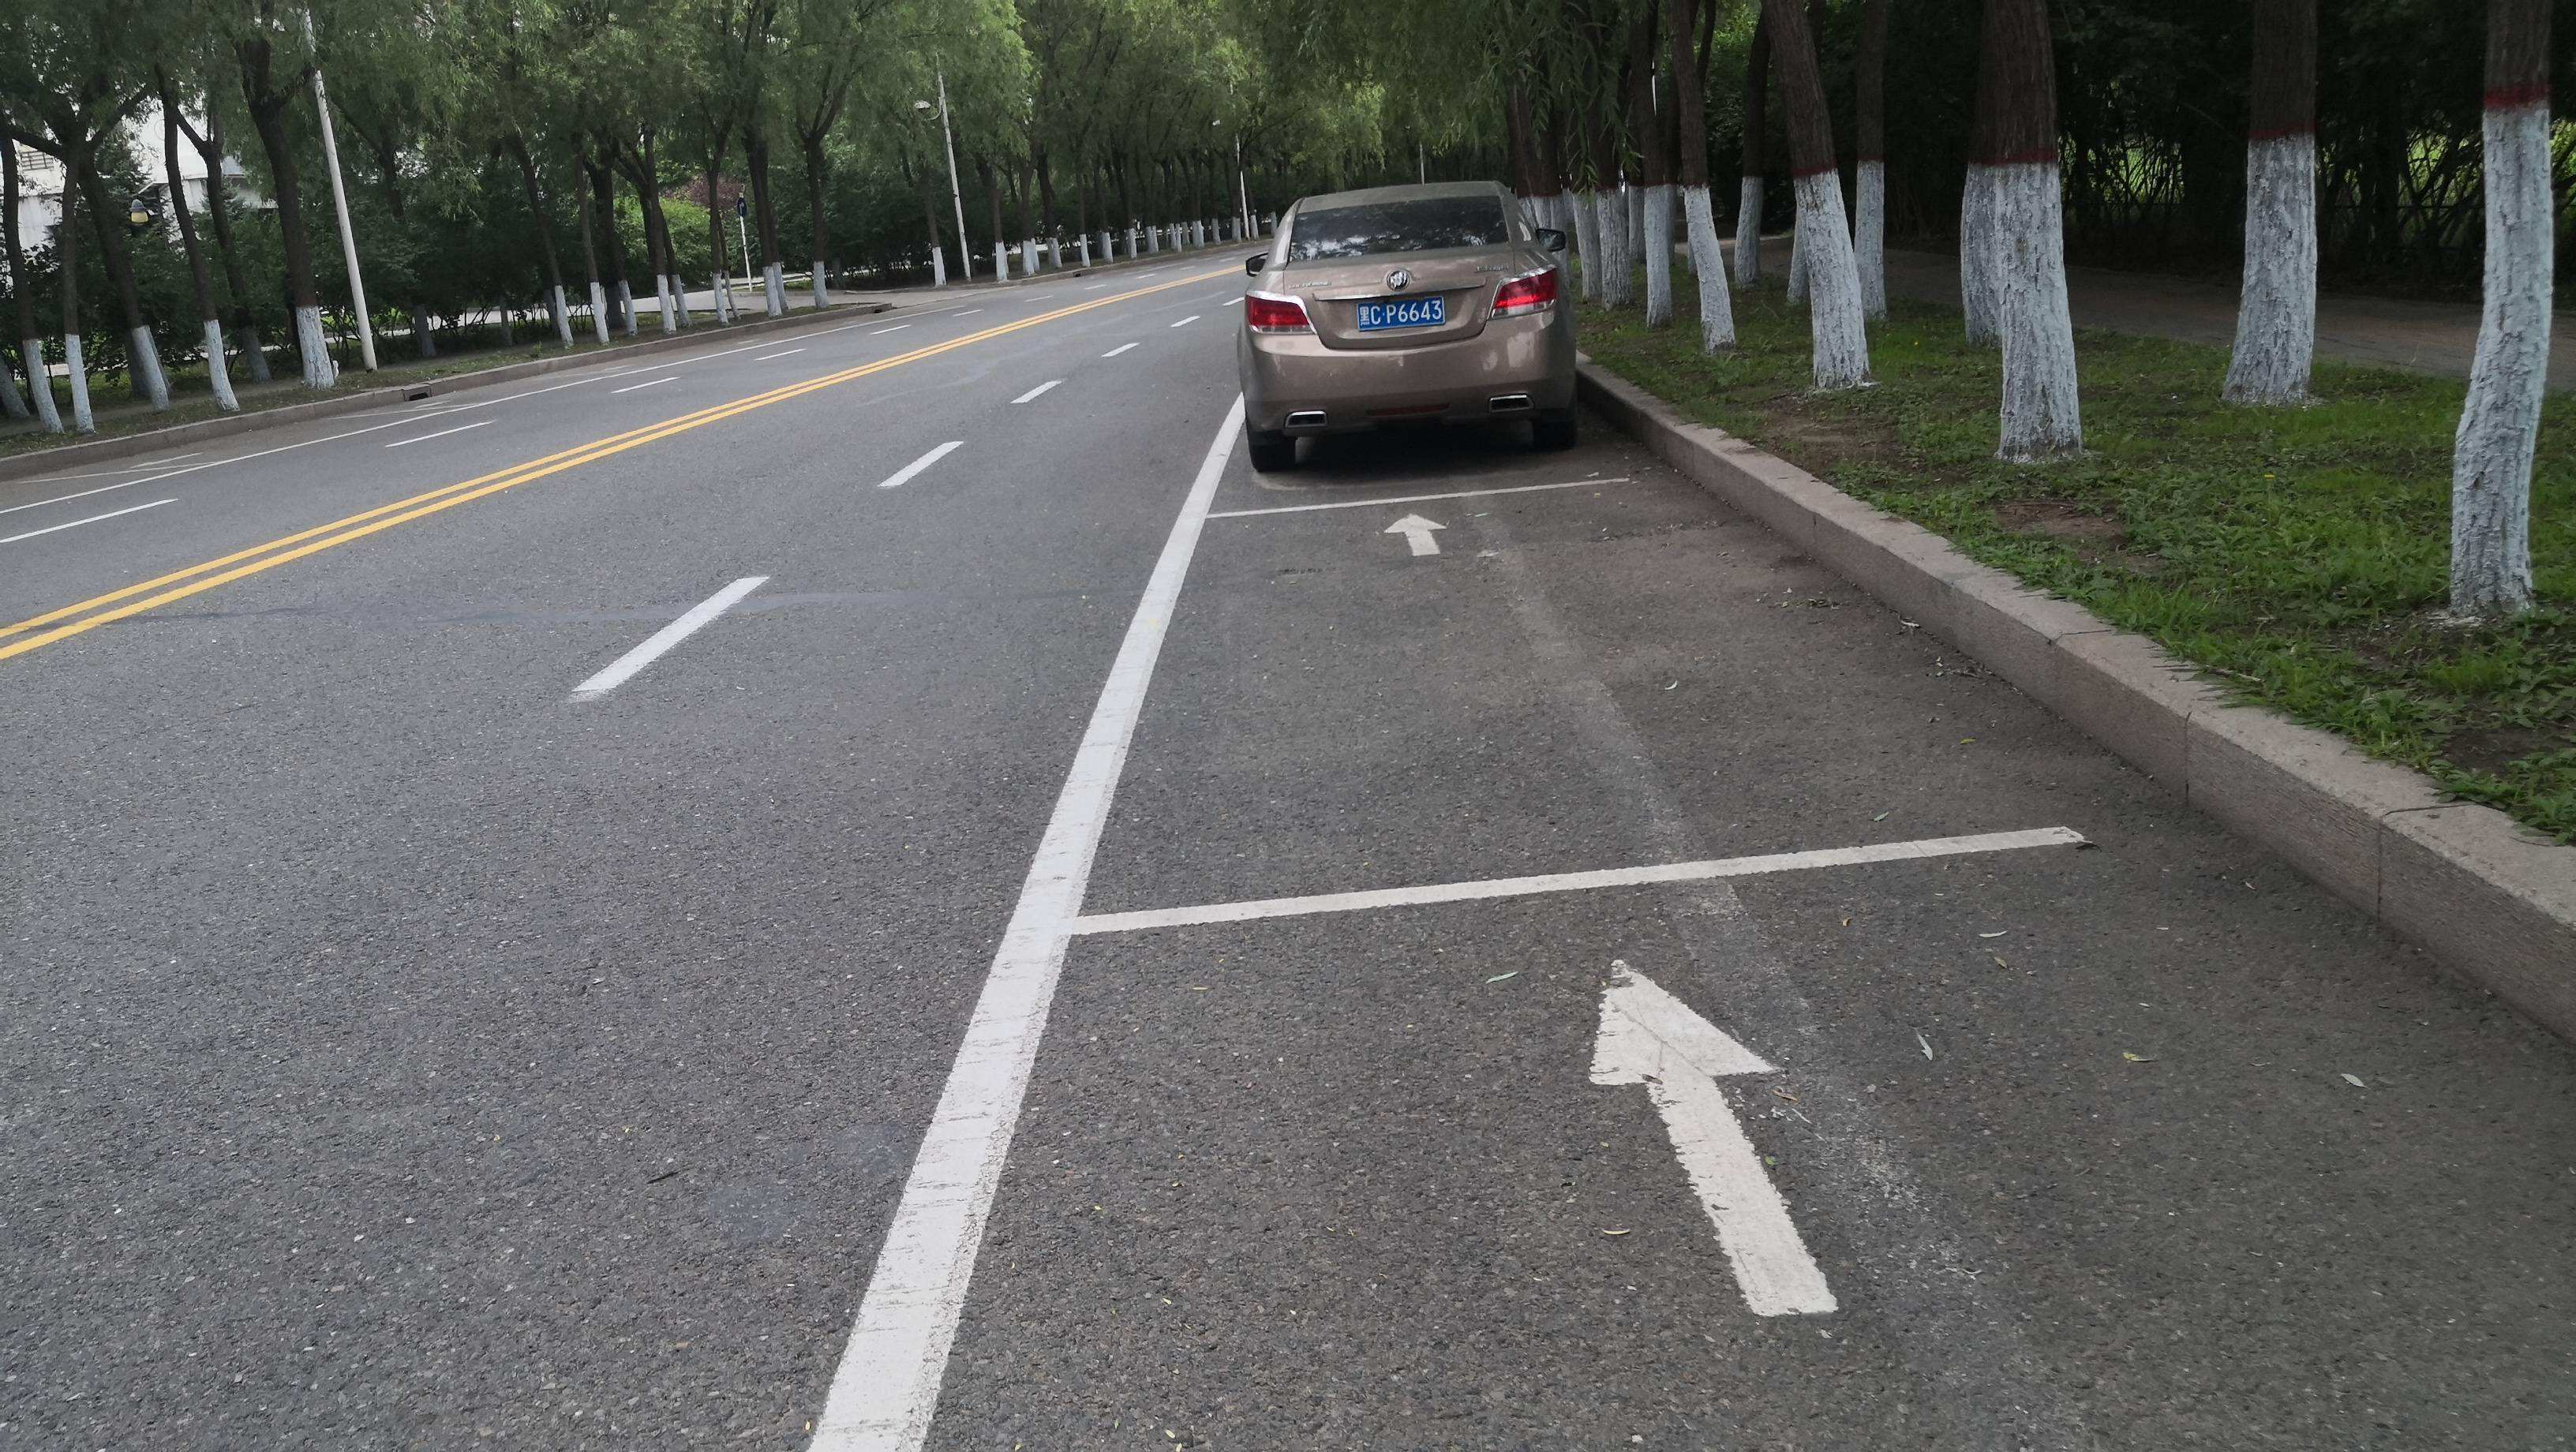slot_nocar: (755, 789, 2576, 1450), (1008, 462, 2210, 966), (21, 382, 485, 485), (331, 347, 683, 410)
